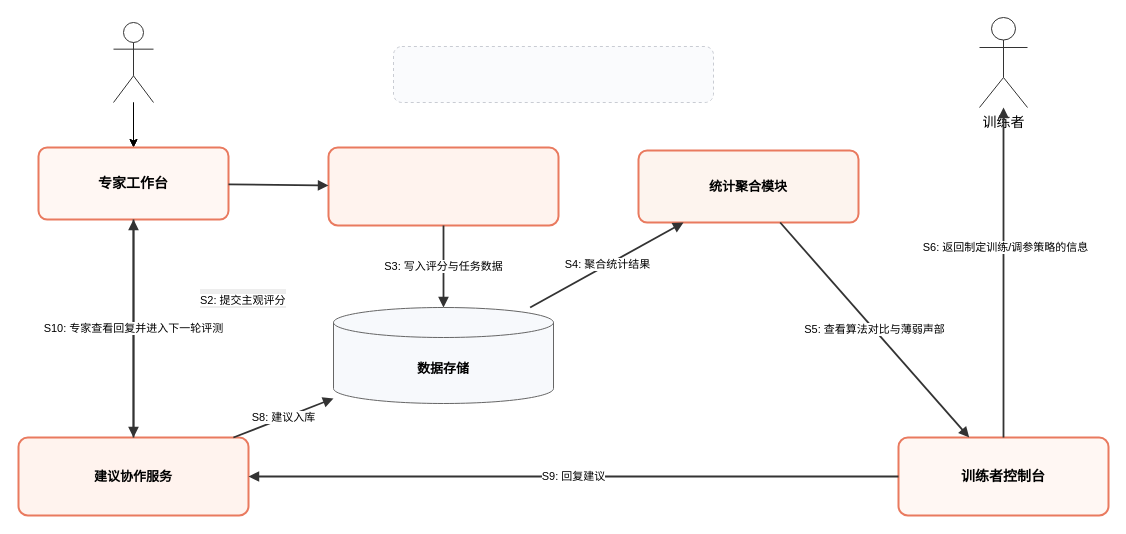
Some shapes in this 1126 by 534 pixel diagram are drawn without their labels. The shapes that lost their labels are listed below. From the top down, each one's centre as x and y in pixels, then its label:
At pixel 133 62: "专 家".
At pixel 553 74: "闭环：专家评分/建议 -> 训练者分析/调参/回复 -> 专家复测".
At pixel 443 186: "评分协作服务".
